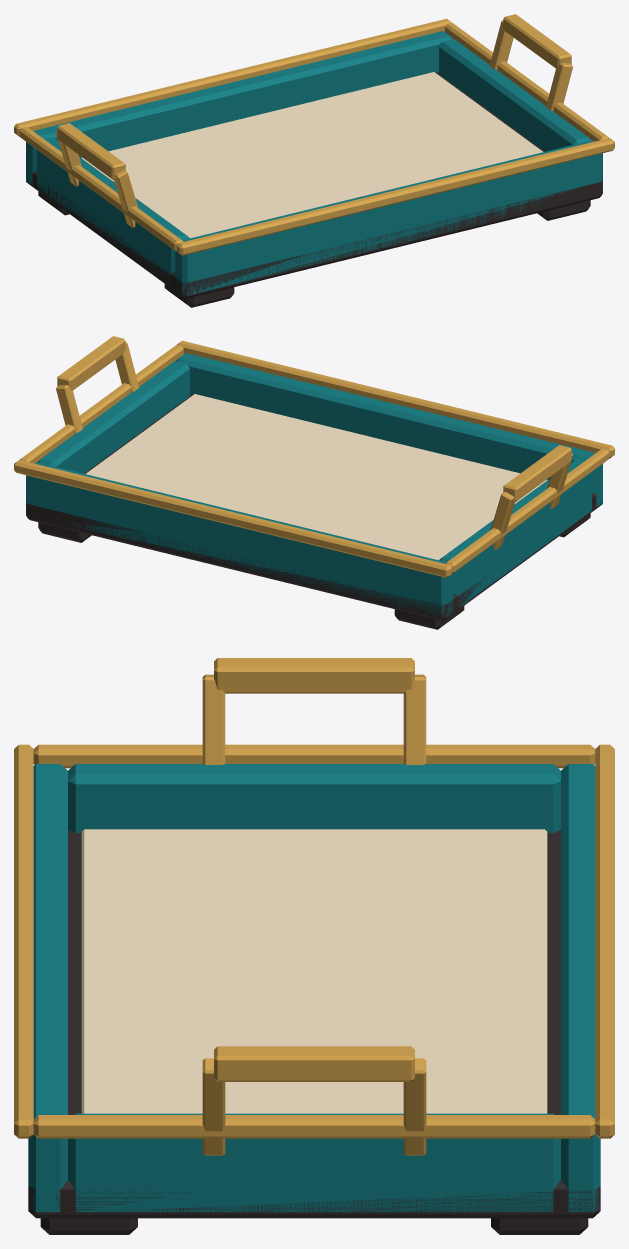
Rendered from 07_Display_Tray.glb.
3 views of the same model, one above another, from view 1: azimuth 30°, elevation 25°; view 2: azimuth 150°, elevation 25°; view 3: azimuth 270°, elevation 25° (orthographic). The views are drawn at different scales.
Visible parts, largest first — view 1: 07_Display_Tray__Body; view 2: 07_Display_Tray__Body; view 3: 07_Display_Tray__Body.
Boxes of the visible parts, box(x1,y1,x2,y2) form: 07_Display_Tray__Body: box(14, 14, 614, 307); 07_Display_Tray__Body: box(14, 336, 614, 629); 07_Display_Tray__Body: box(14, 658, 614, 1234).
Bounding box in the file's own units: 3.12 × 0.7475 × 1.97.
1 material, 1 textured.
